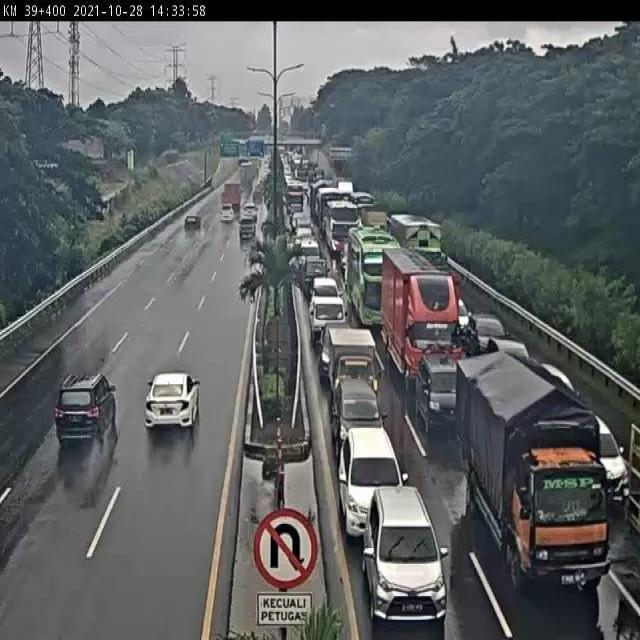car: (360, 489, 449, 623), (334, 429, 409, 539), (567, 406, 631, 506), (416, 350, 472, 438), (52, 375, 118, 449), (322, 328, 384, 405), (327, 382, 389, 458), (142, 369, 200, 432), (309, 296, 350, 352), (466, 313, 508, 360), (487, 337, 530, 375), (298, 259, 330, 299), (447, 293, 470, 335), (296, 238, 320, 266), (312, 278, 340, 302), (294, 223, 312, 243)
truck: (457, 359, 610, 595), (380, 247, 459, 393), (348, 228, 401, 329), (322, 202, 362, 258)
